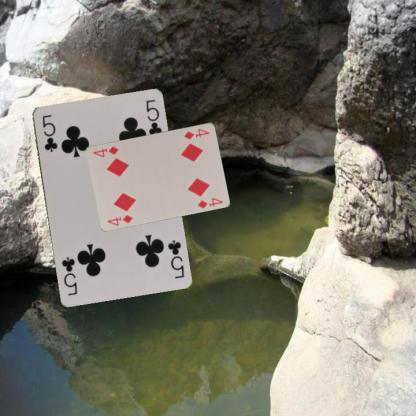4d: (105, 212, 134, 227), (182, 126, 210, 140)
5c: (165, 237, 185, 280), (40, 112, 58, 153)
